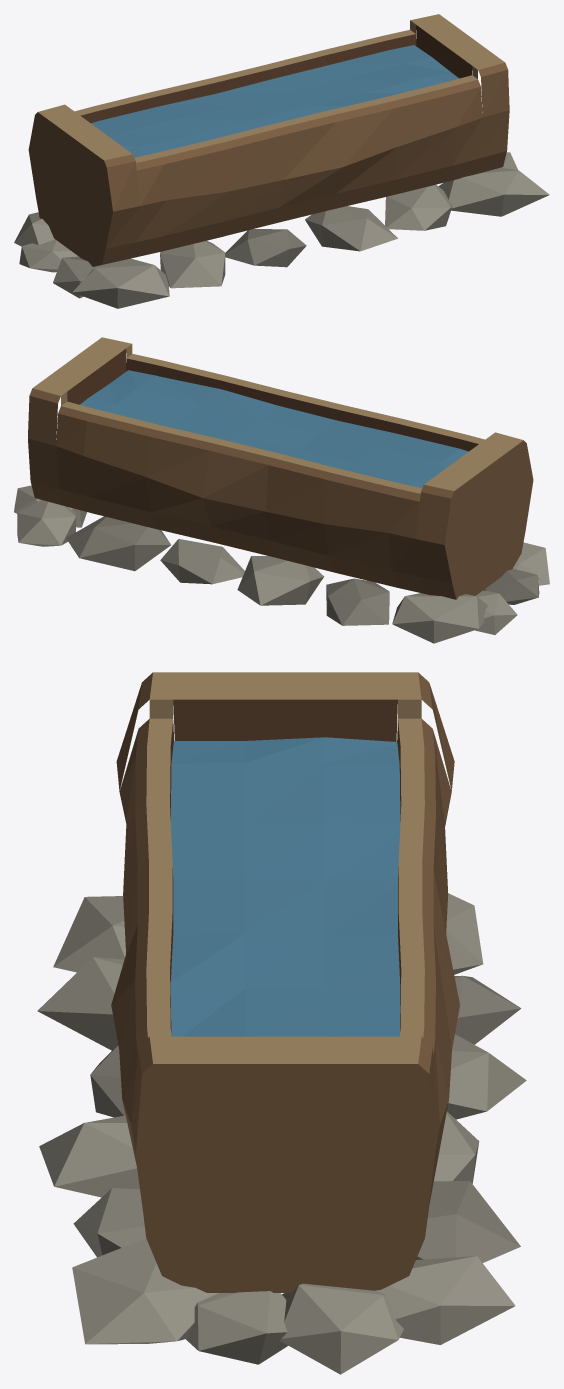
The model's file is water-trough-318ee1.glb.
3 renders of one model, top to bottom at view 1: azimuth 30°, elevation 25°; view 2: azimuth 150°, elevation 25°; view 3: azimuth 270°, elevation 25°, orthographic. The views are drawn at different scales.
Bounding box in the file's own units: 2.35 × 0.655 × 1.06.
